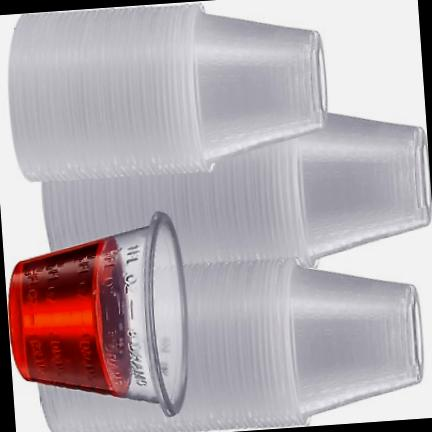container: (9, 212, 186, 414)
fluid: (9, 241, 116, 396)
fluid-surface: (95, 235, 131, 397)
